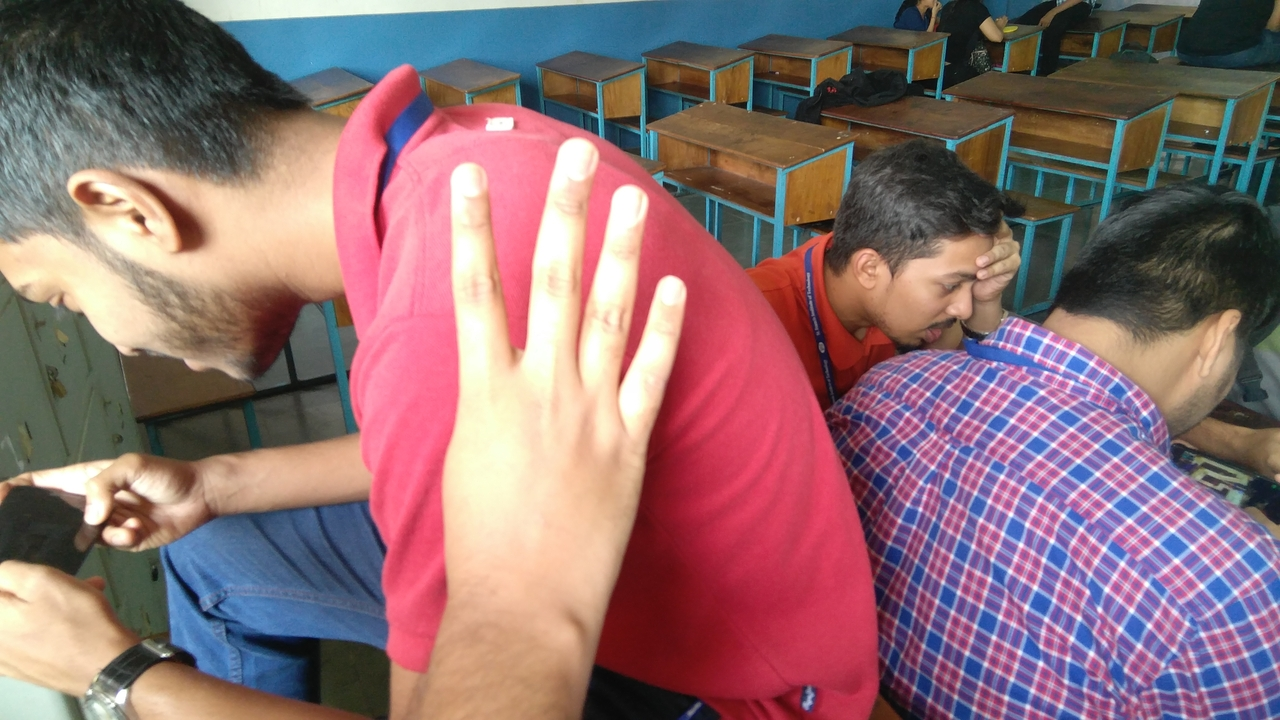fingertip: (542, 128, 602, 198), (435, 150, 499, 206), (642, 266, 694, 320), (609, 183, 653, 228)
